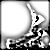node: (1, 1, 32, 39), (41, 35, 50, 46)
